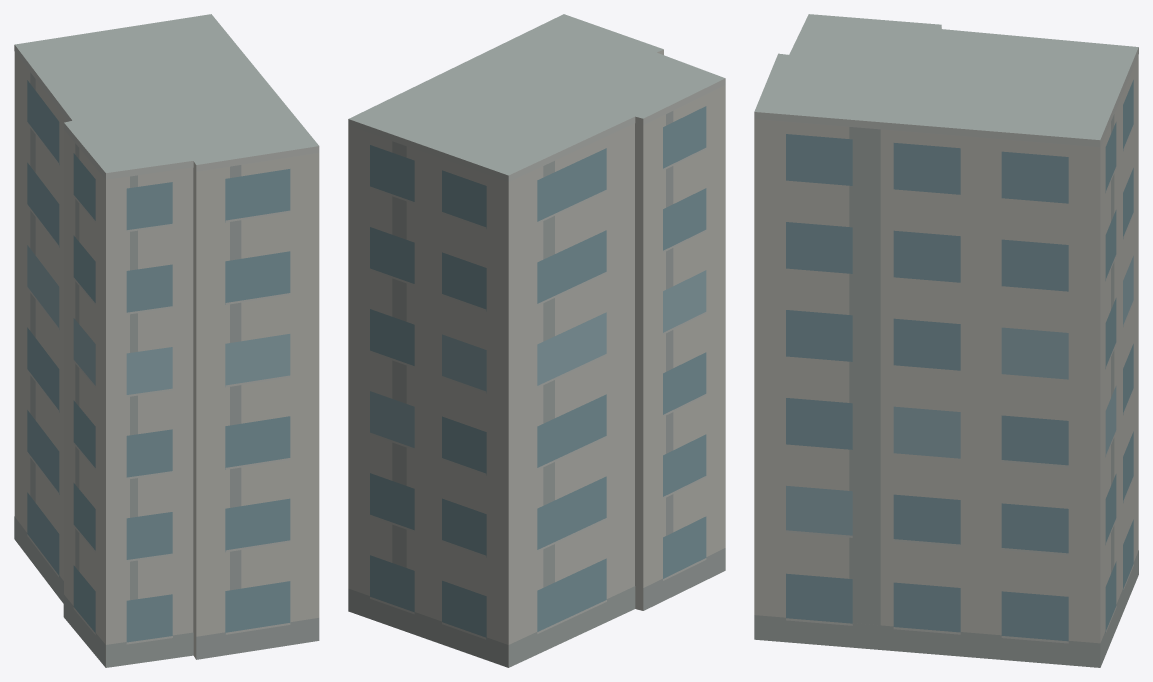
Rendered from survey-upis-33038002.glb.
3 views of the same model, side by side, from view 1: azimuth 30°, elevation 25°; view 2: azimuth 150°, elevation 25°; view 3: azimuth 270°, elevation 25° (orthographic). The views are drawn at different scales.
Visible parts, largest first — view 1: survey-upis-33038002.tmp; view 2: survey-upis-33038002.tmp; view 3: survey-upis-33038002.tmp.
Part boxes in pixels (box(x1,y1,x2,y2)): survey-upis-33038002.tmp: box(14, 14, 319, 667); survey-upis-33038002.tmp: box(348, 14, 725, 667); survey-upis-33038002.tmp: box(754, 14, 1138, 667).
Size of the model in its own units: 9.19 by 17.9 by 11.83.
